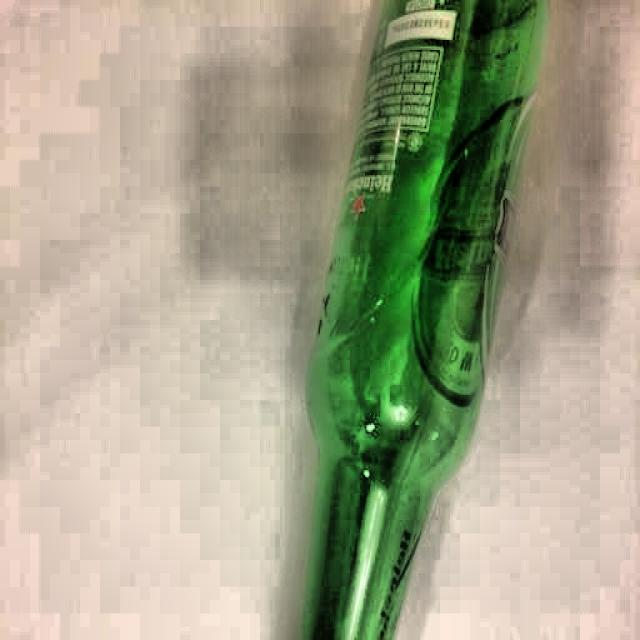glass: (298, 0, 551, 636)
